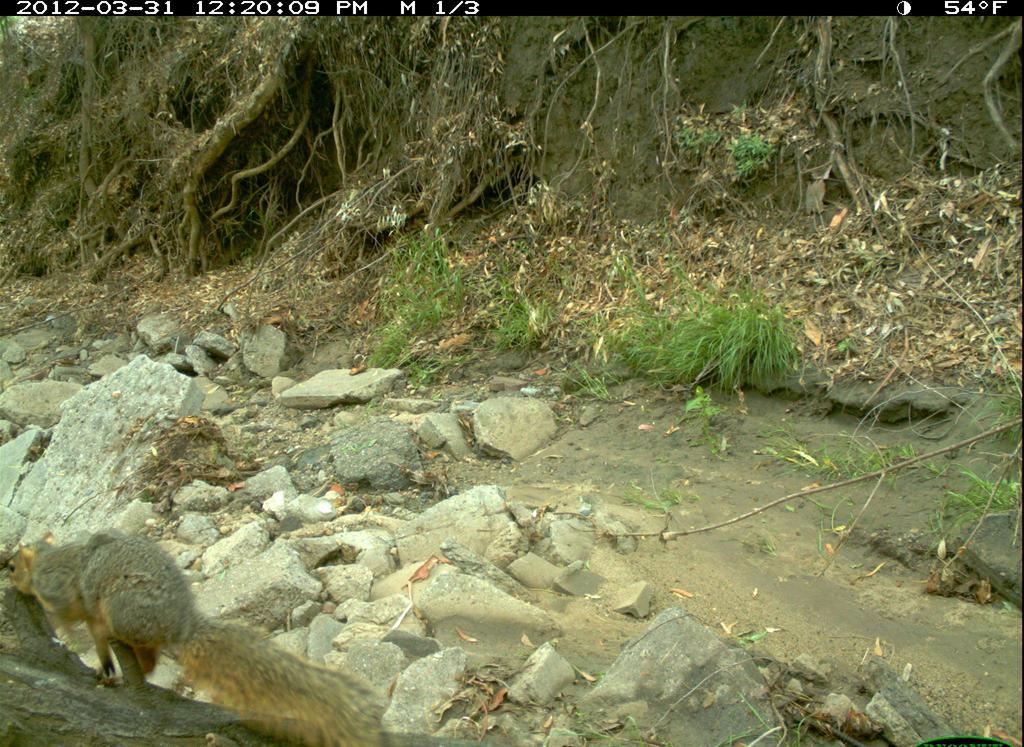squirrel: (4, 527, 388, 747)
